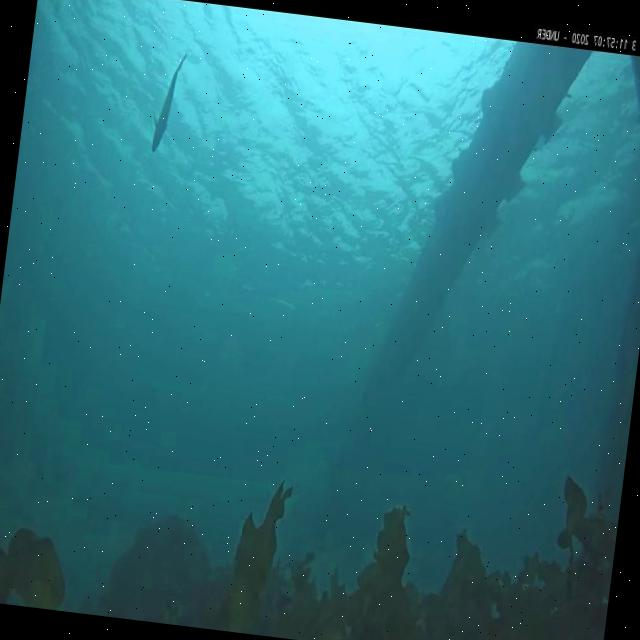fish: (148, 47, 186, 155)
